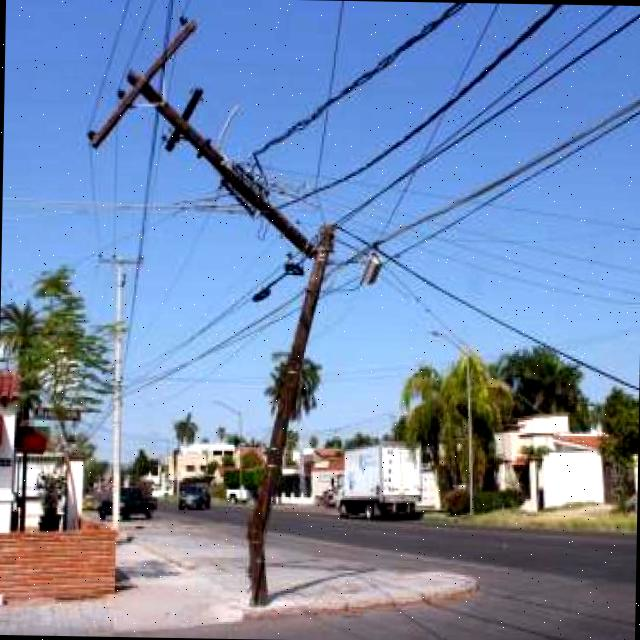Broken Pole: (79, 12, 337, 606)
